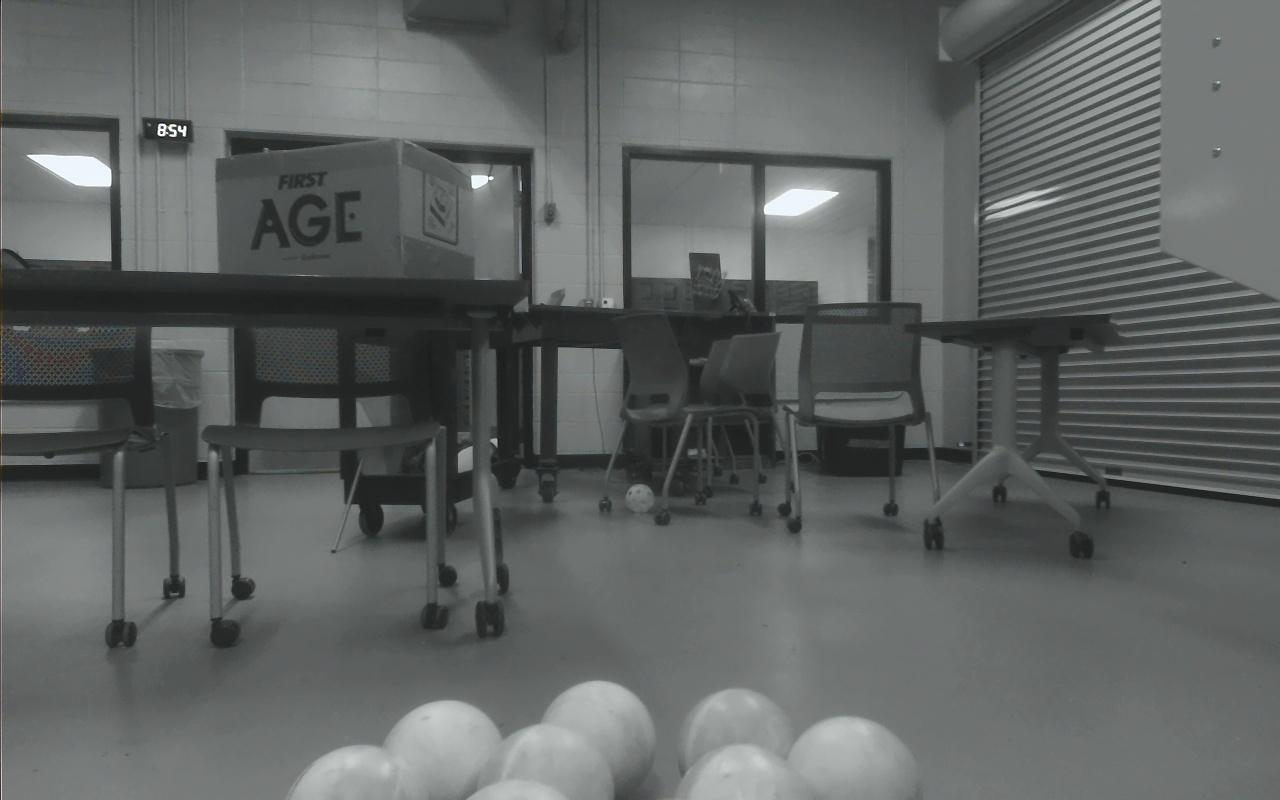Fuel: (539, 680, 657, 798), (676, 688, 796, 793), (380, 699, 503, 800), (788, 714, 922, 800), (476, 722, 614, 800), (673, 742, 814, 800), (287, 744, 430, 800), (468, 778, 568, 800)
